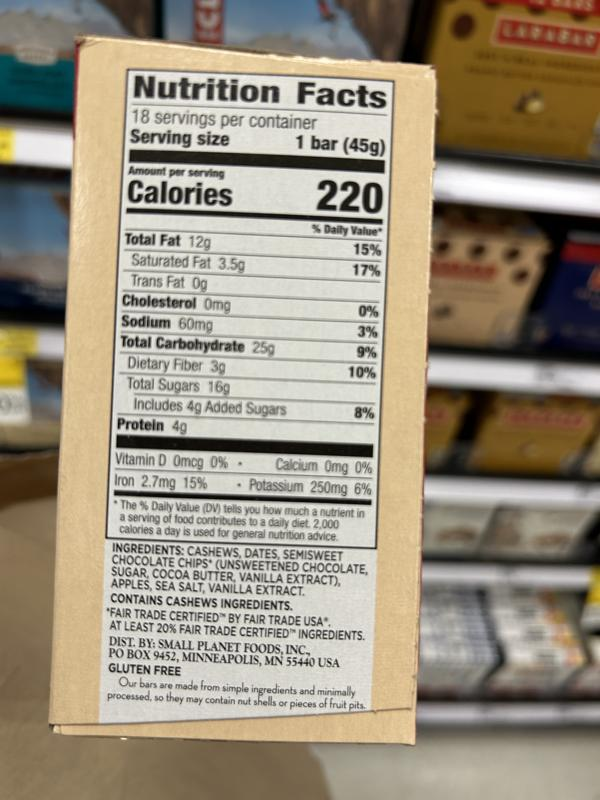ingredients: (109, 542, 372, 595)
